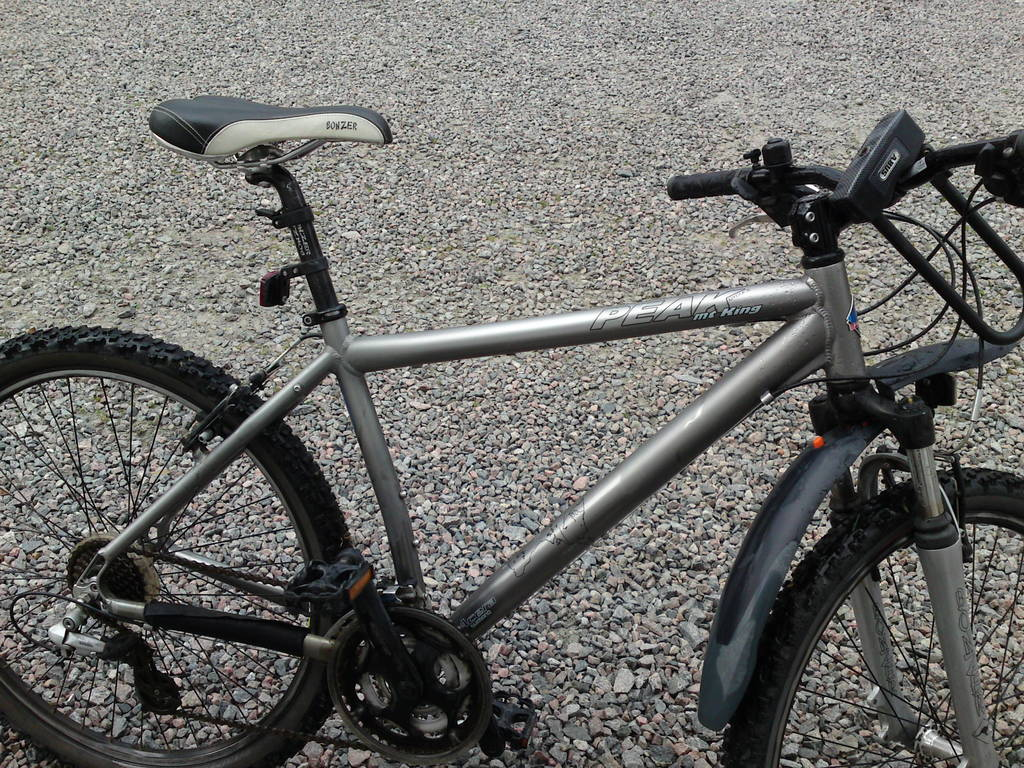Bike: (72, 58, 1024, 708)
